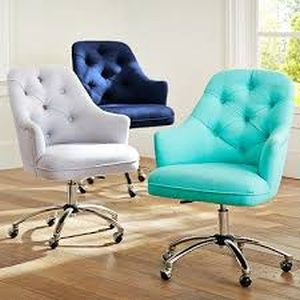chair: (147, 69, 294, 285), (7, 66, 139, 249)
